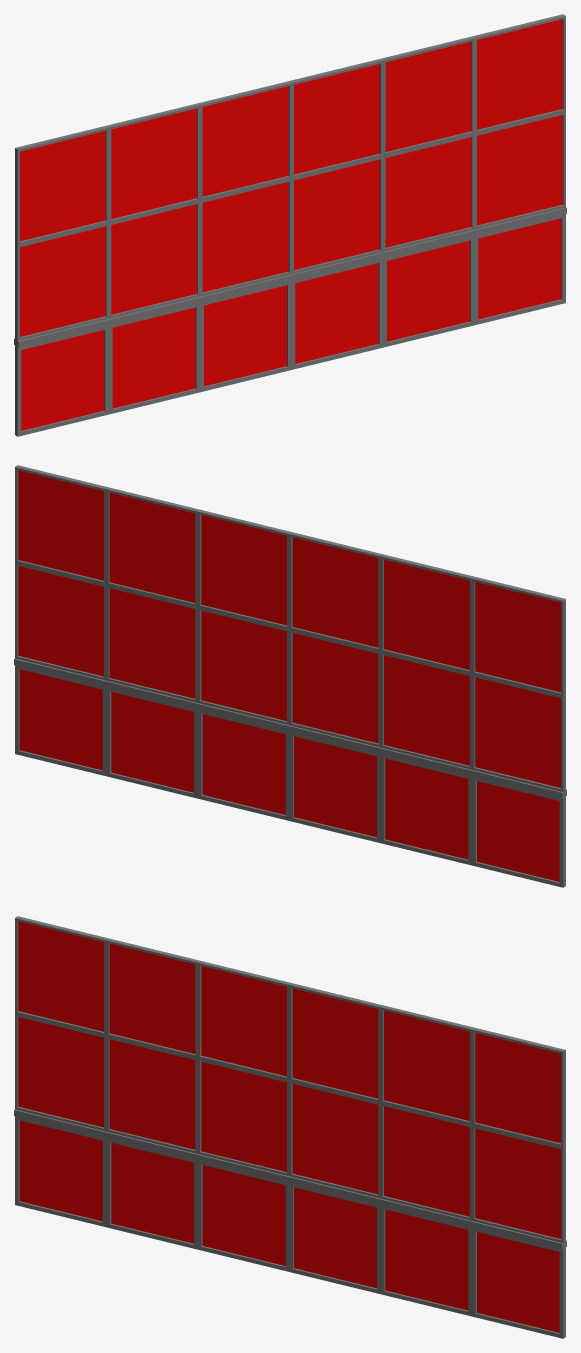
Rendered from WindowBay01.fbx.
The picture shows the model from 3 angles, top to bottom: view 1: azimuth 30°, elevation 25°; view 2: azimuth 150°, elevation 25°; view 3: azimuth 330°, elevation 25°; orthographic projection.
Parts seen in each view (by area): view 1: WindowBay01; view 2: WindowBay01; view 3: WindowBay01.
Boxes of the visible parts, x1,y1,x2,y2 form: WindowBay01: [14, 14, 566, 436]; WindowBay01: [14, 465, 566, 887]; WindowBay01: [14, 916, 566, 1338].
Bounding box in the file's own units: 600 × 300 × 8.55.
